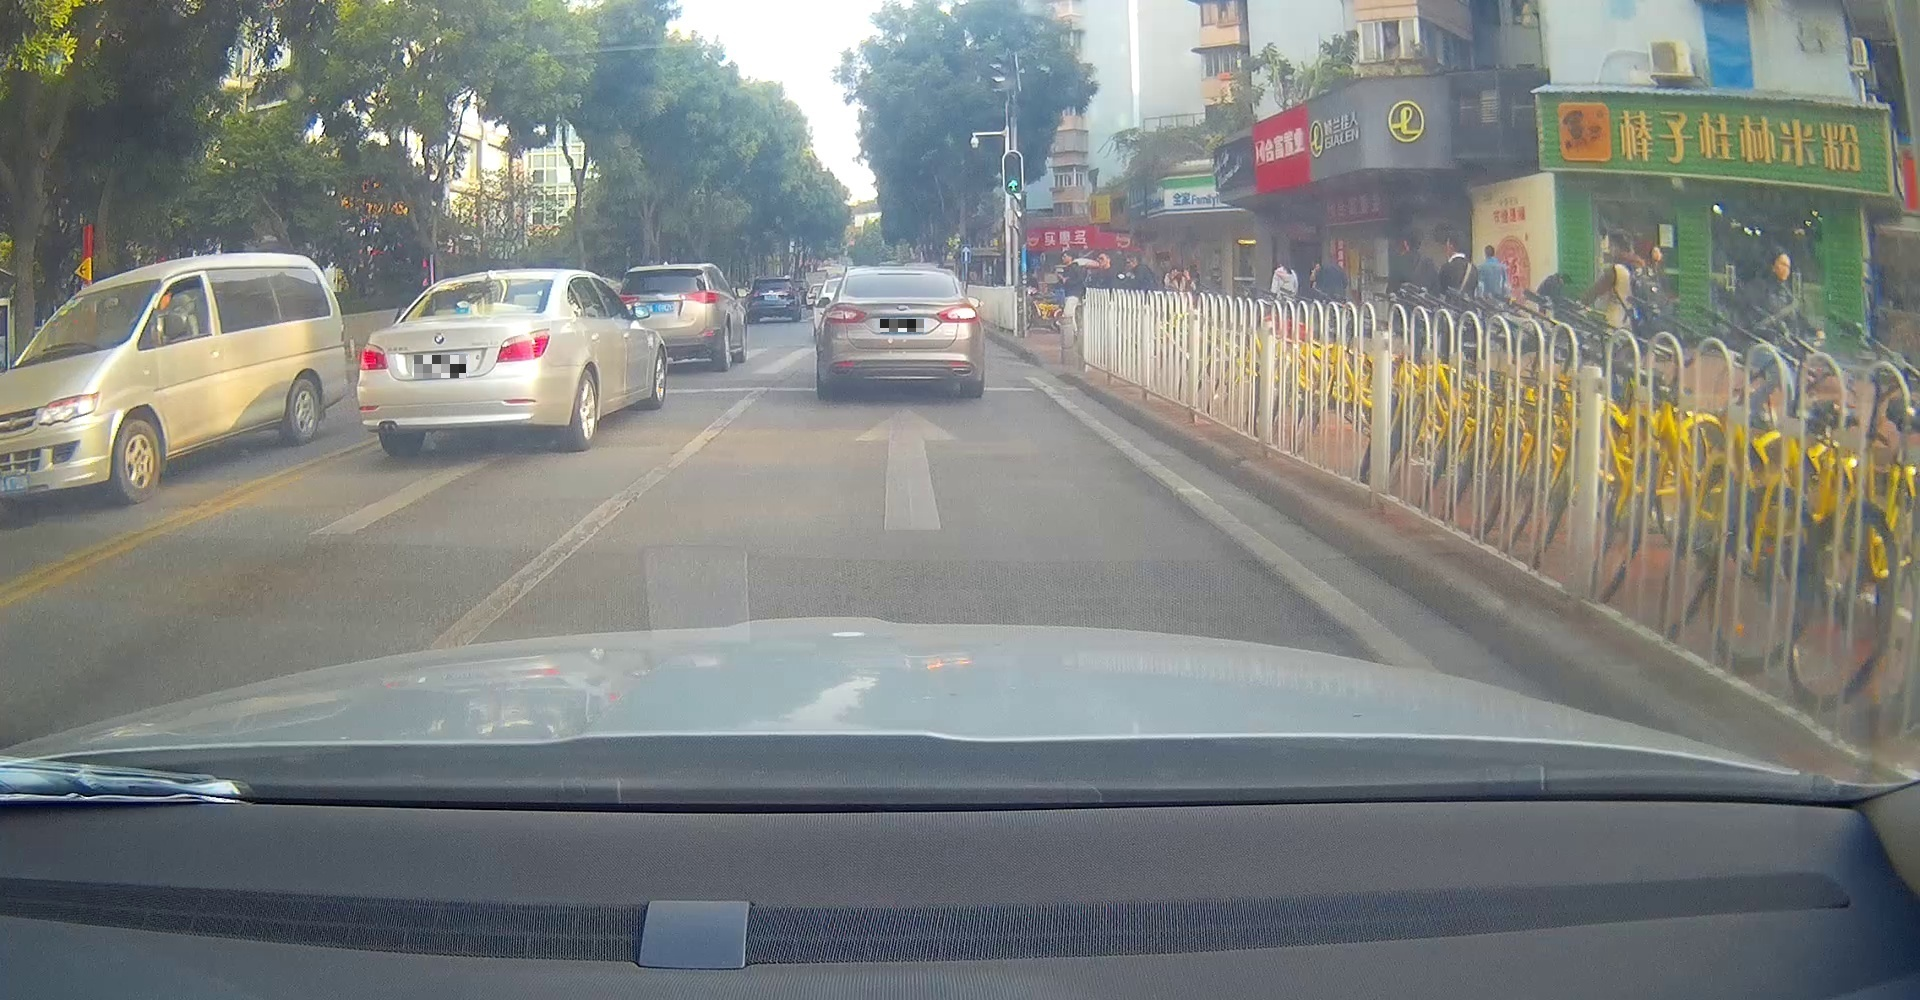L_light: (359, 343, 389, 371), (825, 306, 866, 322), (618, 294, 637, 305)
R_light: (497, 327, 551, 362), (937, 302, 978, 324), (681, 291, 719, 305)
T_light: (472, 280, 499, 286), (886, 274, 910, 278), (651, 272, 669, 275)
day-no: (356, 269, 561, 457), (618, 265, 721, 371)
day-right: (825, 266, 979, 398)
plate_1: (414, 355, 466, 378)
plate_2: (880, 319, 924, 332)
